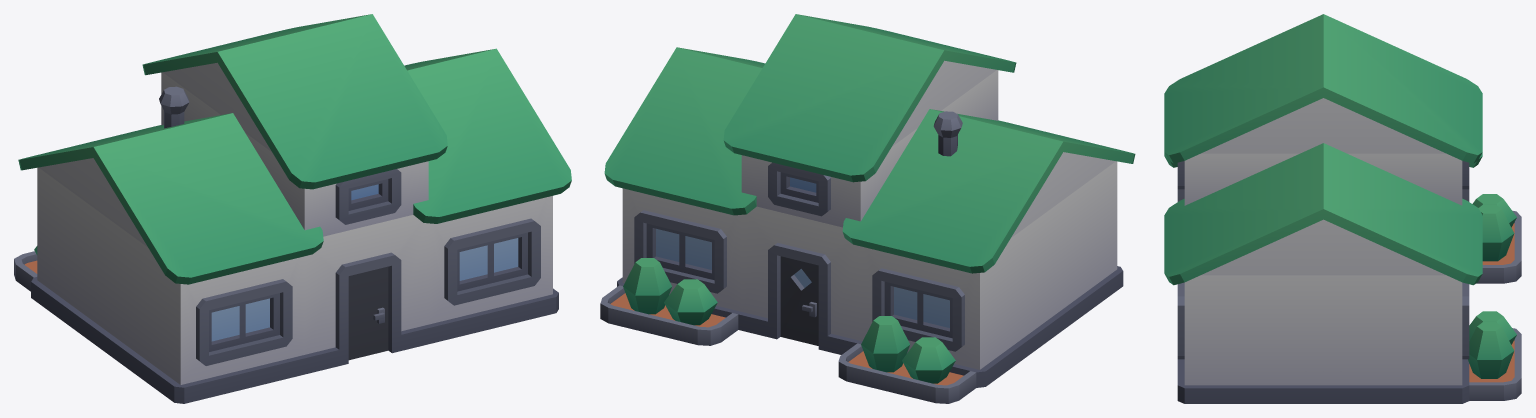
File: building-type-a-high.glb
3 renders of one model, left to right at view 1: azimuth 30°, elevation 25°; view 2: azimuth 150°, elevation 25°; view 3: azimuth 270°, elevation 25°, orthographic. The views are drawn at different scales.
Size of the model in its own units: 1.3 by 0.8335 by 1.03.
